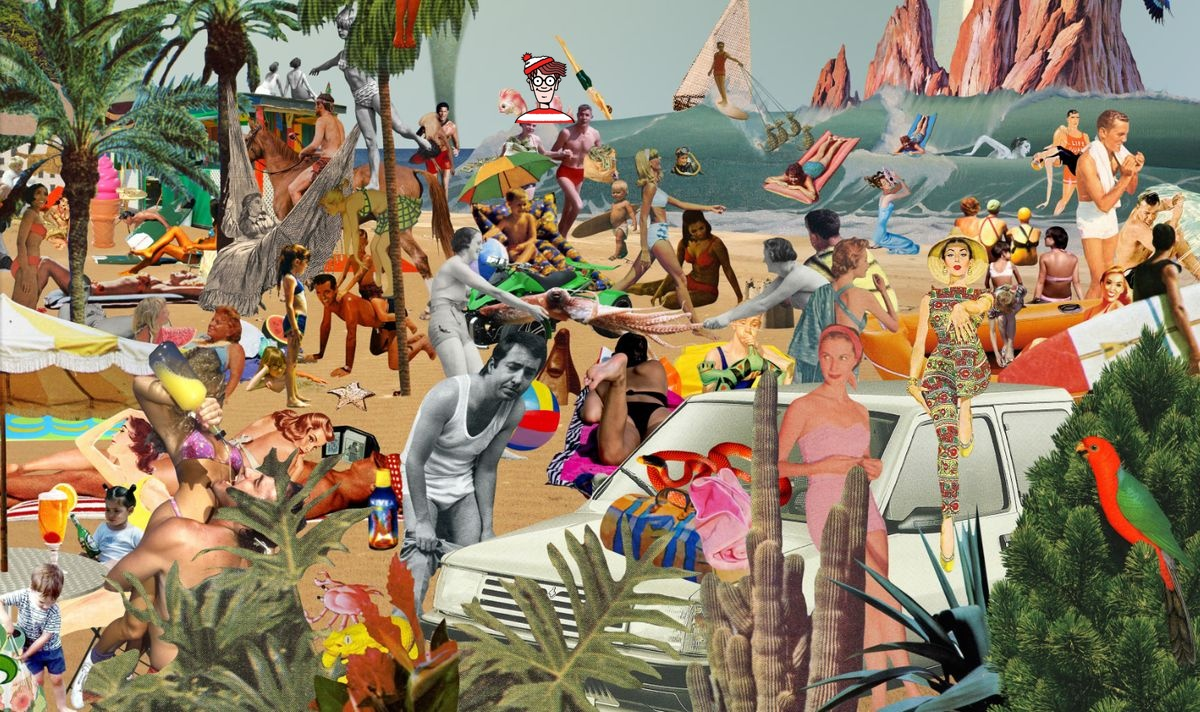waldo: (514, 52, 575, 123)
